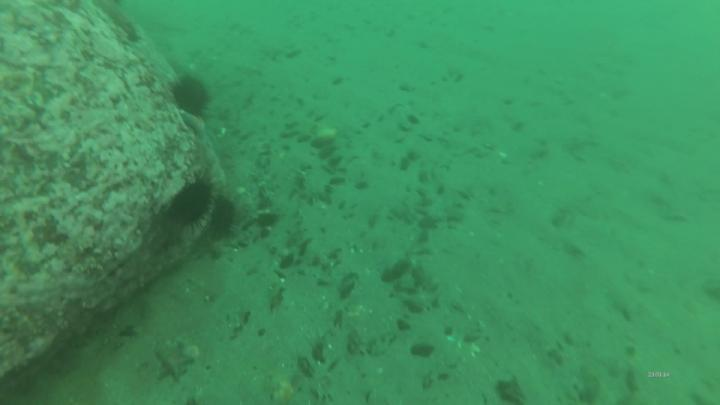echinus: (174, 187, 211, 224), (173, 80, 211, 114), (213, 198, 232, 238)
starfish: (158, 344, 194, 381), (419, 198, 461, 228)
